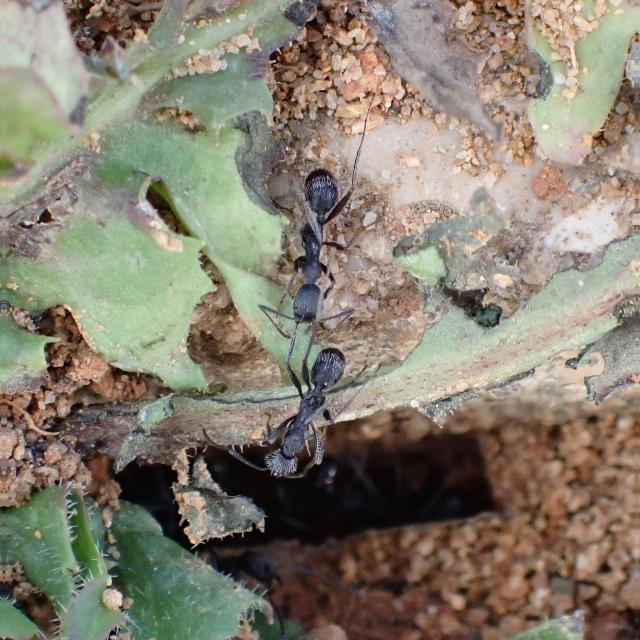Apheanogaster: (233, 332, 365, 498), (256, 150, 368, 338)
